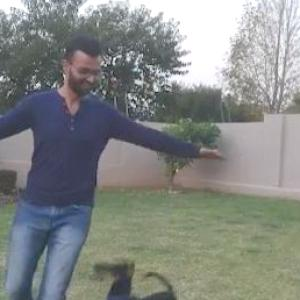land: (0, 53, 178, 299)
